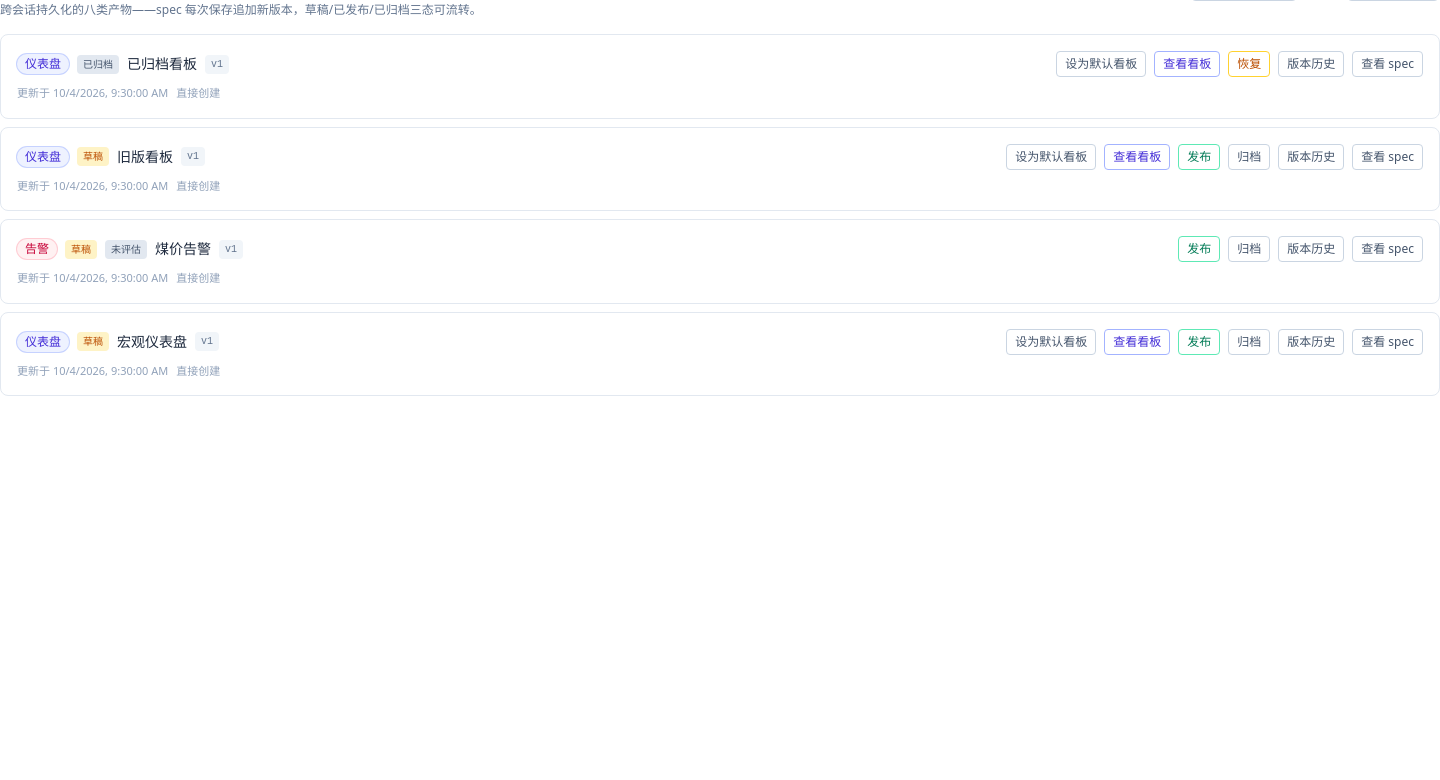
看板定时刷新小节（wire-refresh-scheduler 4.1/4.2） › 创建失败态（422 地板）：后端 detail 如实呈现，创建面保留
Click the button with test id "artifact-dashboard-view" in the row of "宏观仪表盘" at coordinates (1137, 342), box left=1104, top=328, right=1170, bottom=354
(page scrolled)
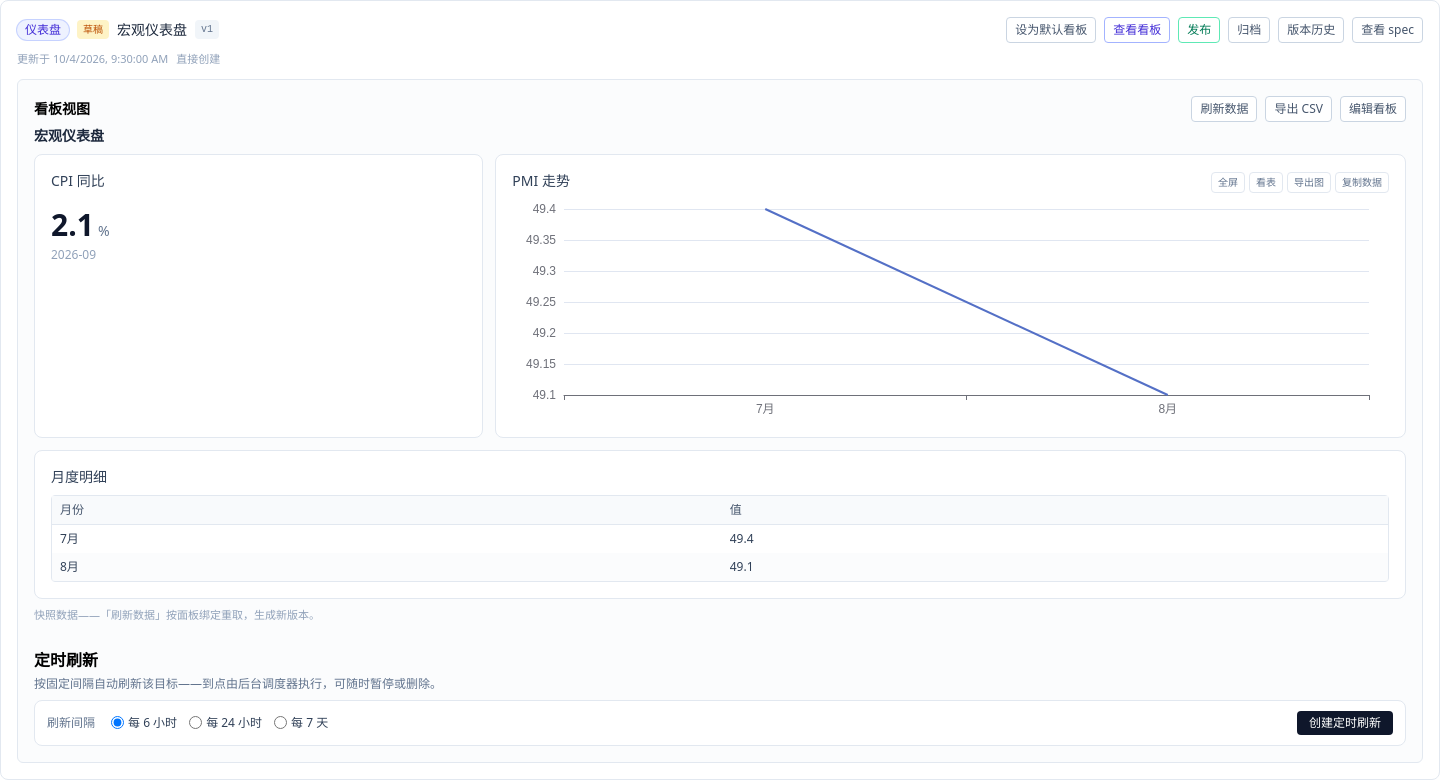
Check: the element with test id "dashboard-pane" is shown
Click the button with test id "schedule-create-submit" at coordinates (1345, 722), box left=1297, top=710, right=1393, bottom=734
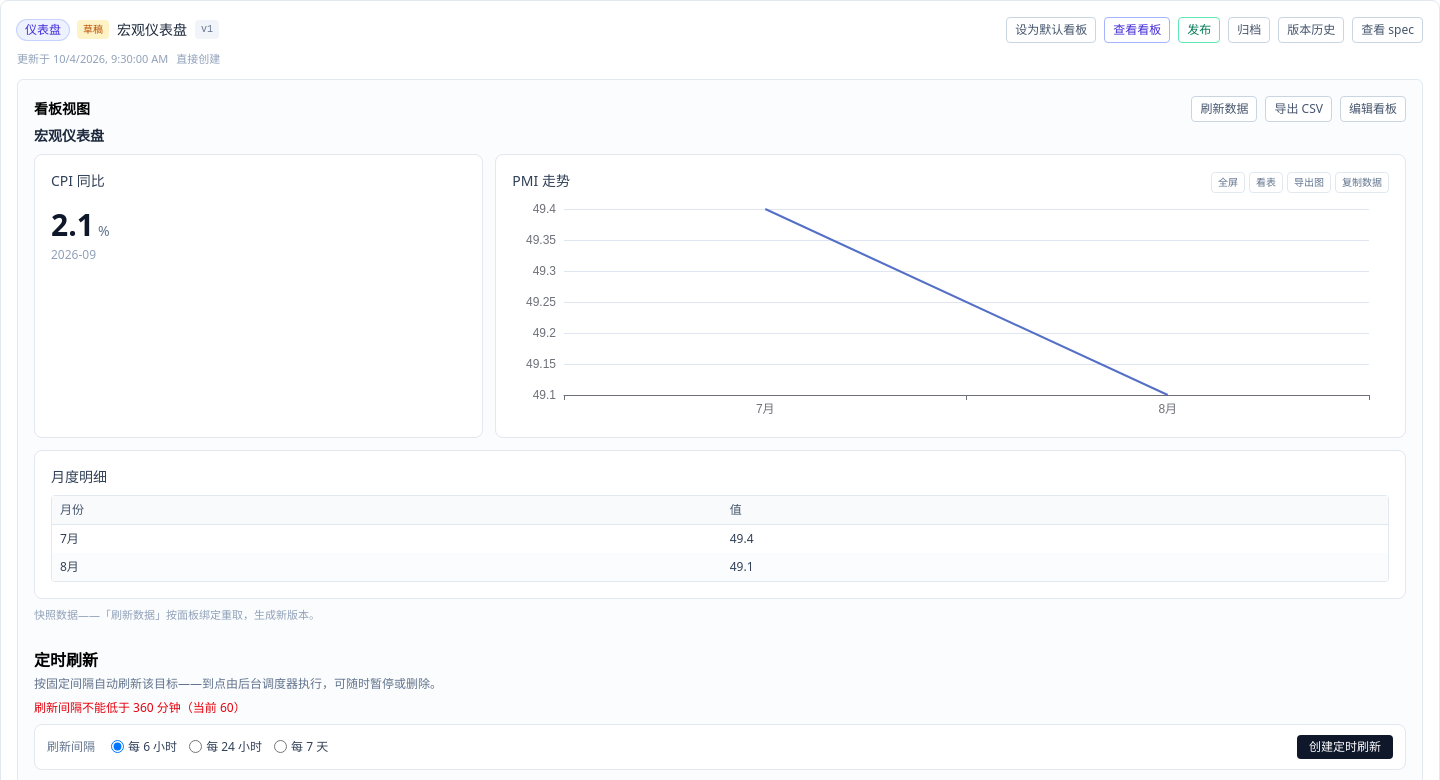
Check: the element with test id "schedule-create" is shown, box left=34, top=724, right=1406, bottom=770
Check: the text with test id "schedule-op-error" shows "360 分钟", box left=34, top=698, right=246, bottom=716
